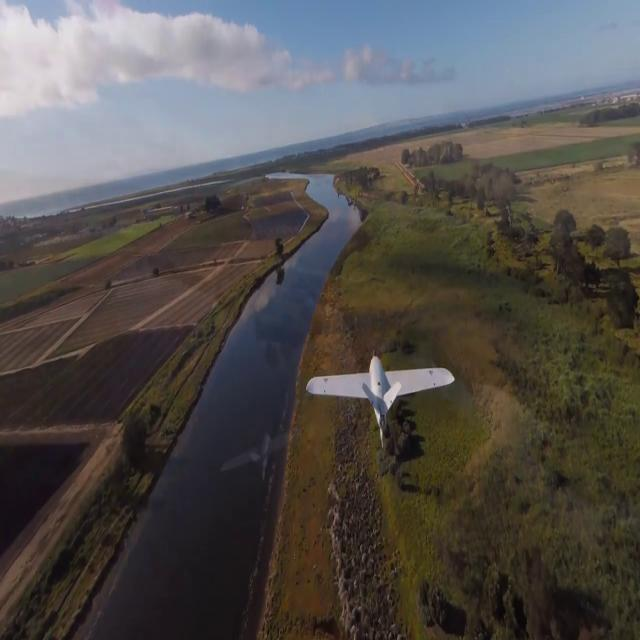iha: (308, 378, 455, 395)
